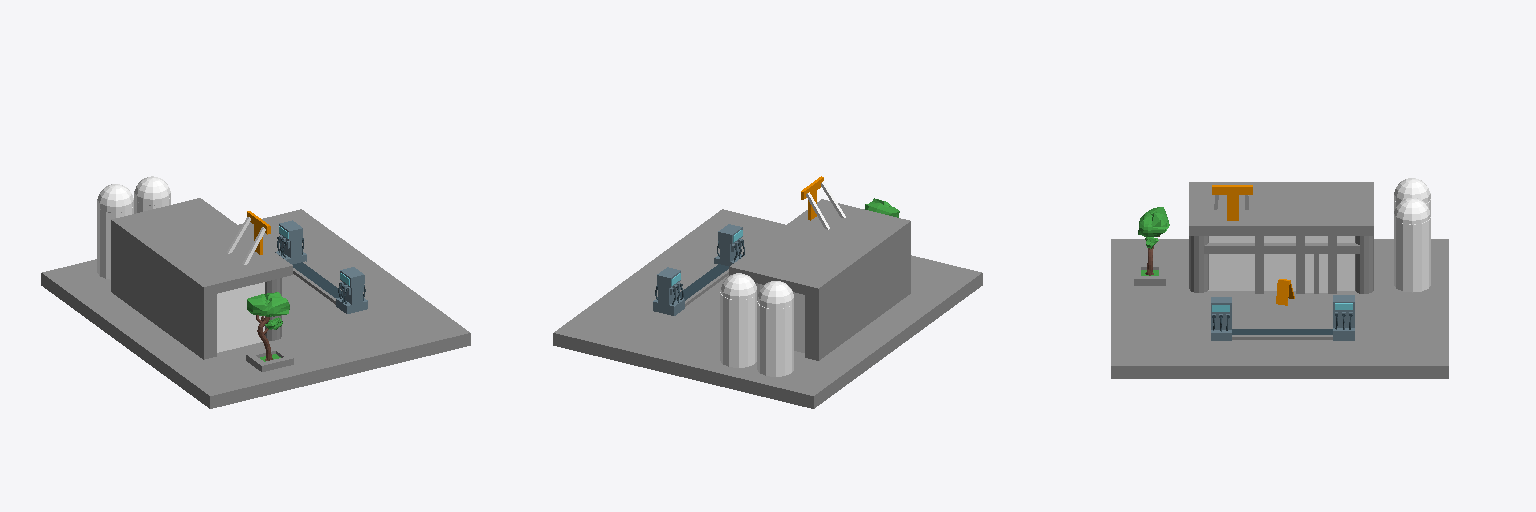
The model's file is gas.obj.
3 renders of one model, left to right at view 1: azimuth 30°, elevation 25°; view 2: azimuth 150°, elevation 25°; view 3: azimuth 270°, elevation 25°, orthographic.
Parts seen in each view (by area): view 1: group[number redacted], group[number redacted], group[number redacted], group[number redacted], group[number redacted], group[number redacted], group[number redacted], group[number redacted], group[number redacted], group[number redacted], group[number redacted]; view 2: group[number redacted], group[number redacted], group[number redacted], group[number redacted], group[number redacted], group[number redacted], group[number redacted], group[number redacted], group[number redacted], group[number redacted]; view 3: group[number redacted], group[number redacted], group[number redacted], group[number redacted], group[number redacted], group[number redacted], group[number redacted], group[number redacted], group[number redacted], group[number redacted], group[number redacted], group[number redacted] (+3 smaller).
Part boxes in pixels (x1,y1,x2,y2): group[number redacted]: (41, 209, 470, 408); group[number redacted]: (111, 198, 292, 296); group[number redacted]: (111, 230, 216, 359); group[number redacted]: (217, 282, 264, 352); group[number redacted]: (247, 292, 289, 360); group[number redacted]: (336, 267, 367, 313); group[number redacted]: (97, 205, 133, 279); group[number redacted]: (275, 220, 306, 264); group[number redacted]: (97, 184, 133, 212); group[number redacted]: (134, 176, 170, 205); group[number redacted]: (262, 262, 281, 340); group[number redacted]: (553, 209, 982, 408); group[number redacted]: (729, 199, 910, 297); group[number redacted]: (805, 231, 910, 360); group[number redacted]: (757, 301, 793, 376); group[number redacted]: (720, 292, 756, 367); group[number redacted]: (653, 267, 684, 315); group[number redacted]: (714, 224, 744, 266); group[number redacted]: (758, 281, 793, 308); group[number redacted]: (721, 273, 756, 299); group[number redacted]: (760, 284, 804, 352); group[number redacted]: (1111, 239, 1448, 378); group[number redacted]: (1189, 182, 1373, 235); group[number redacted]: (1208, 236, 1354, 290); group[number redacted]: (1394, 217, 1430, 292); group[number redacted]: (1204, 243, 1359, 253); group[number redacted]: (1189, 214, 1208, 292); group[number redacted]: (1355, 236, 1373, 293); group[number redacted]: (1333, 295, 1354, 340); group[number redacted]: (1138, 207, 1169, 275); group[number redacted]: (1211, 297, 1231, 340); group[number redacted]: (1394, 198, 1430, 224); group[number redacted]: (1212, 185, 1252, 220).
Bounding box in the file's own units: 1.69 × 0.74 × 1.9.